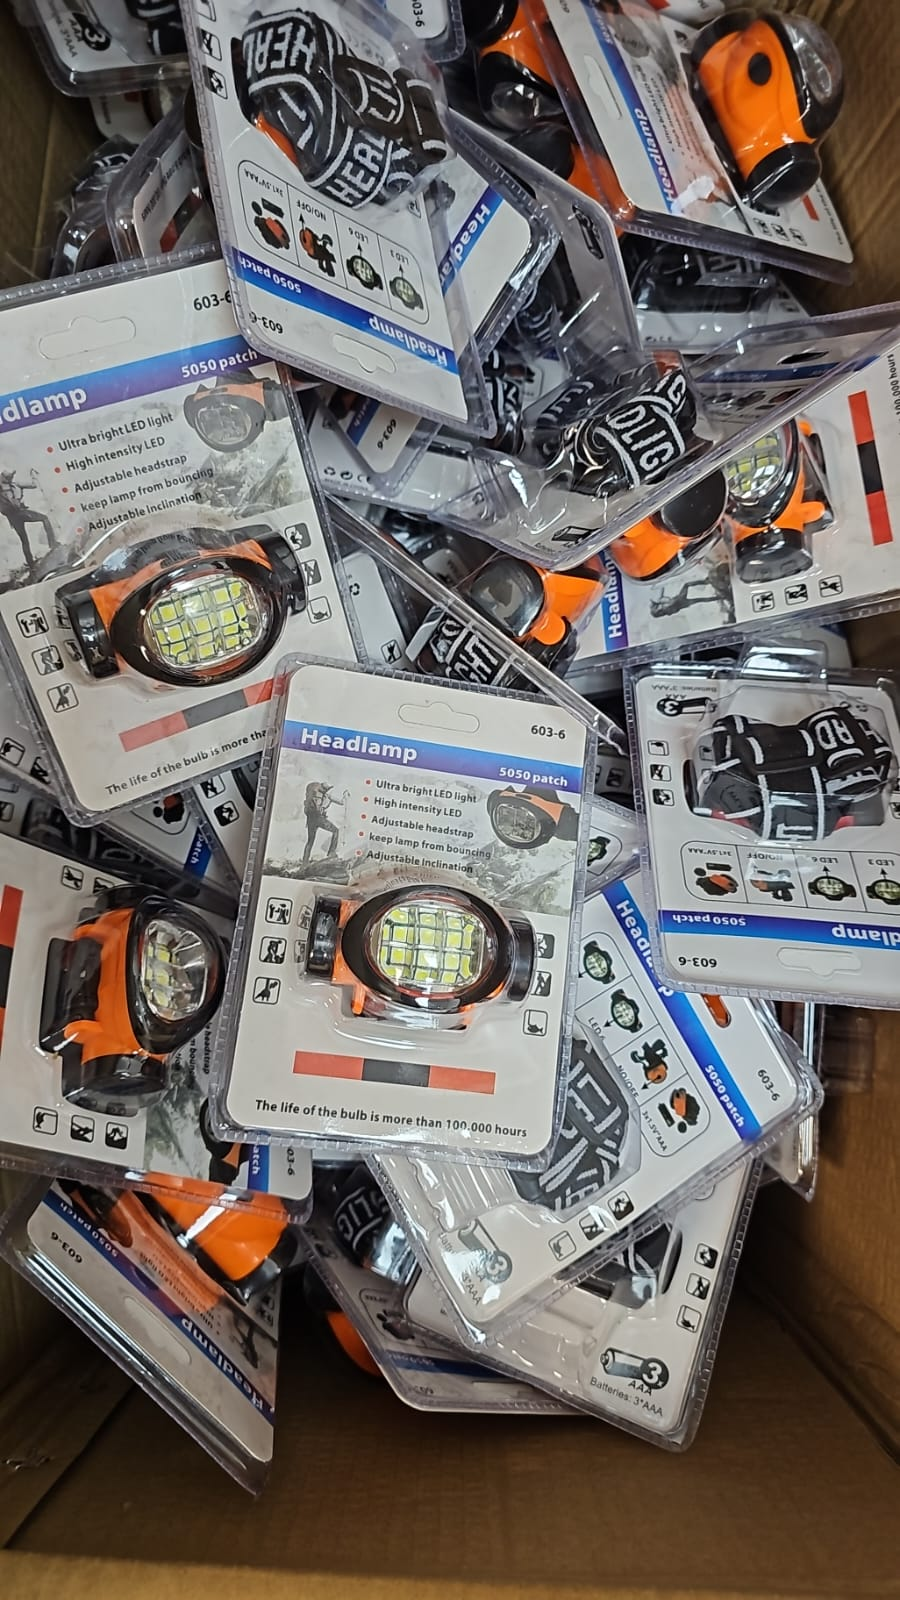other: (225, 648, 595, 1134), (41, 485, 309, 697), (685, 9, 869, 241), (97, 1138, 348, 1302), (695, 678, 888, 884), (238, 41, 467, 202), (71, 899, 204, 1097), (530, 364, 704, 502)
